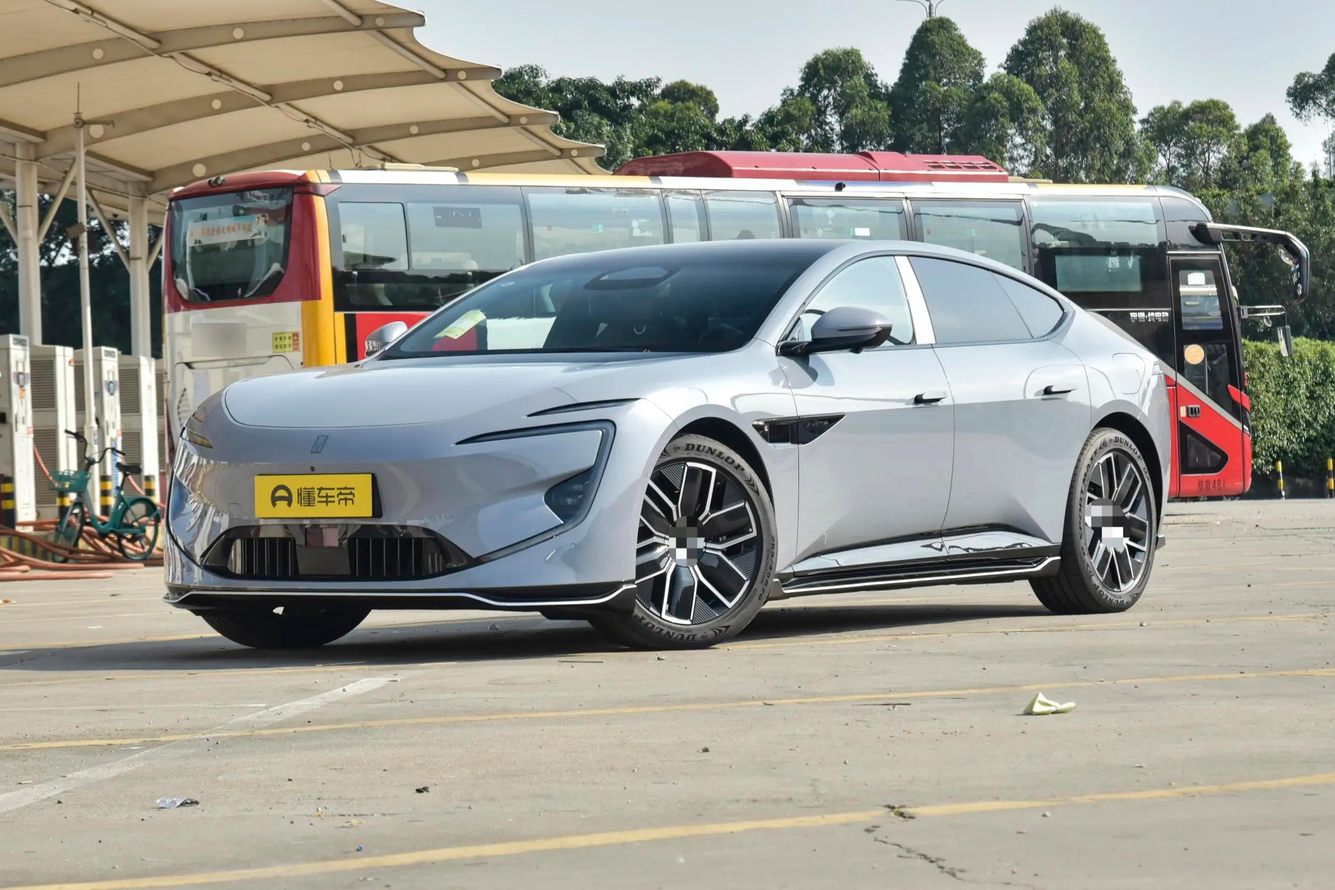AVATR: (310, 435, 328, 453)
